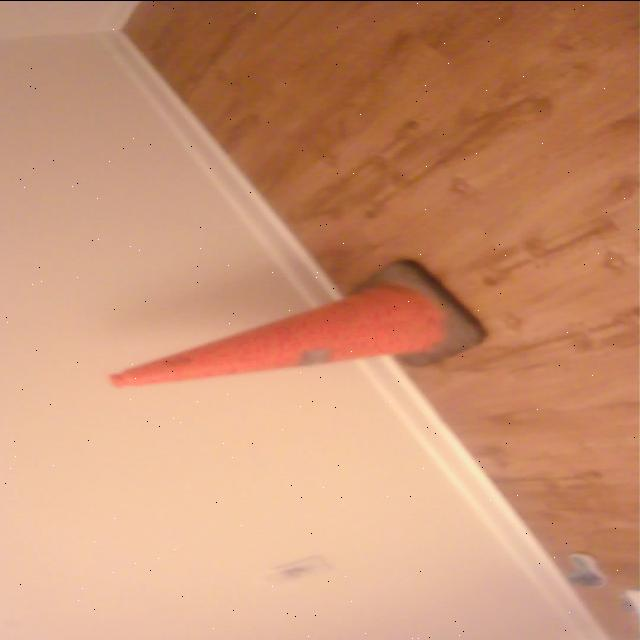traffic cone: (102, 257, 498, 391)
